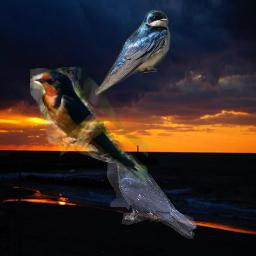Crow: (105, 153, 197, 239)
Swallow: (30, 67, 148, 182), (95, 8, 171, 97)
